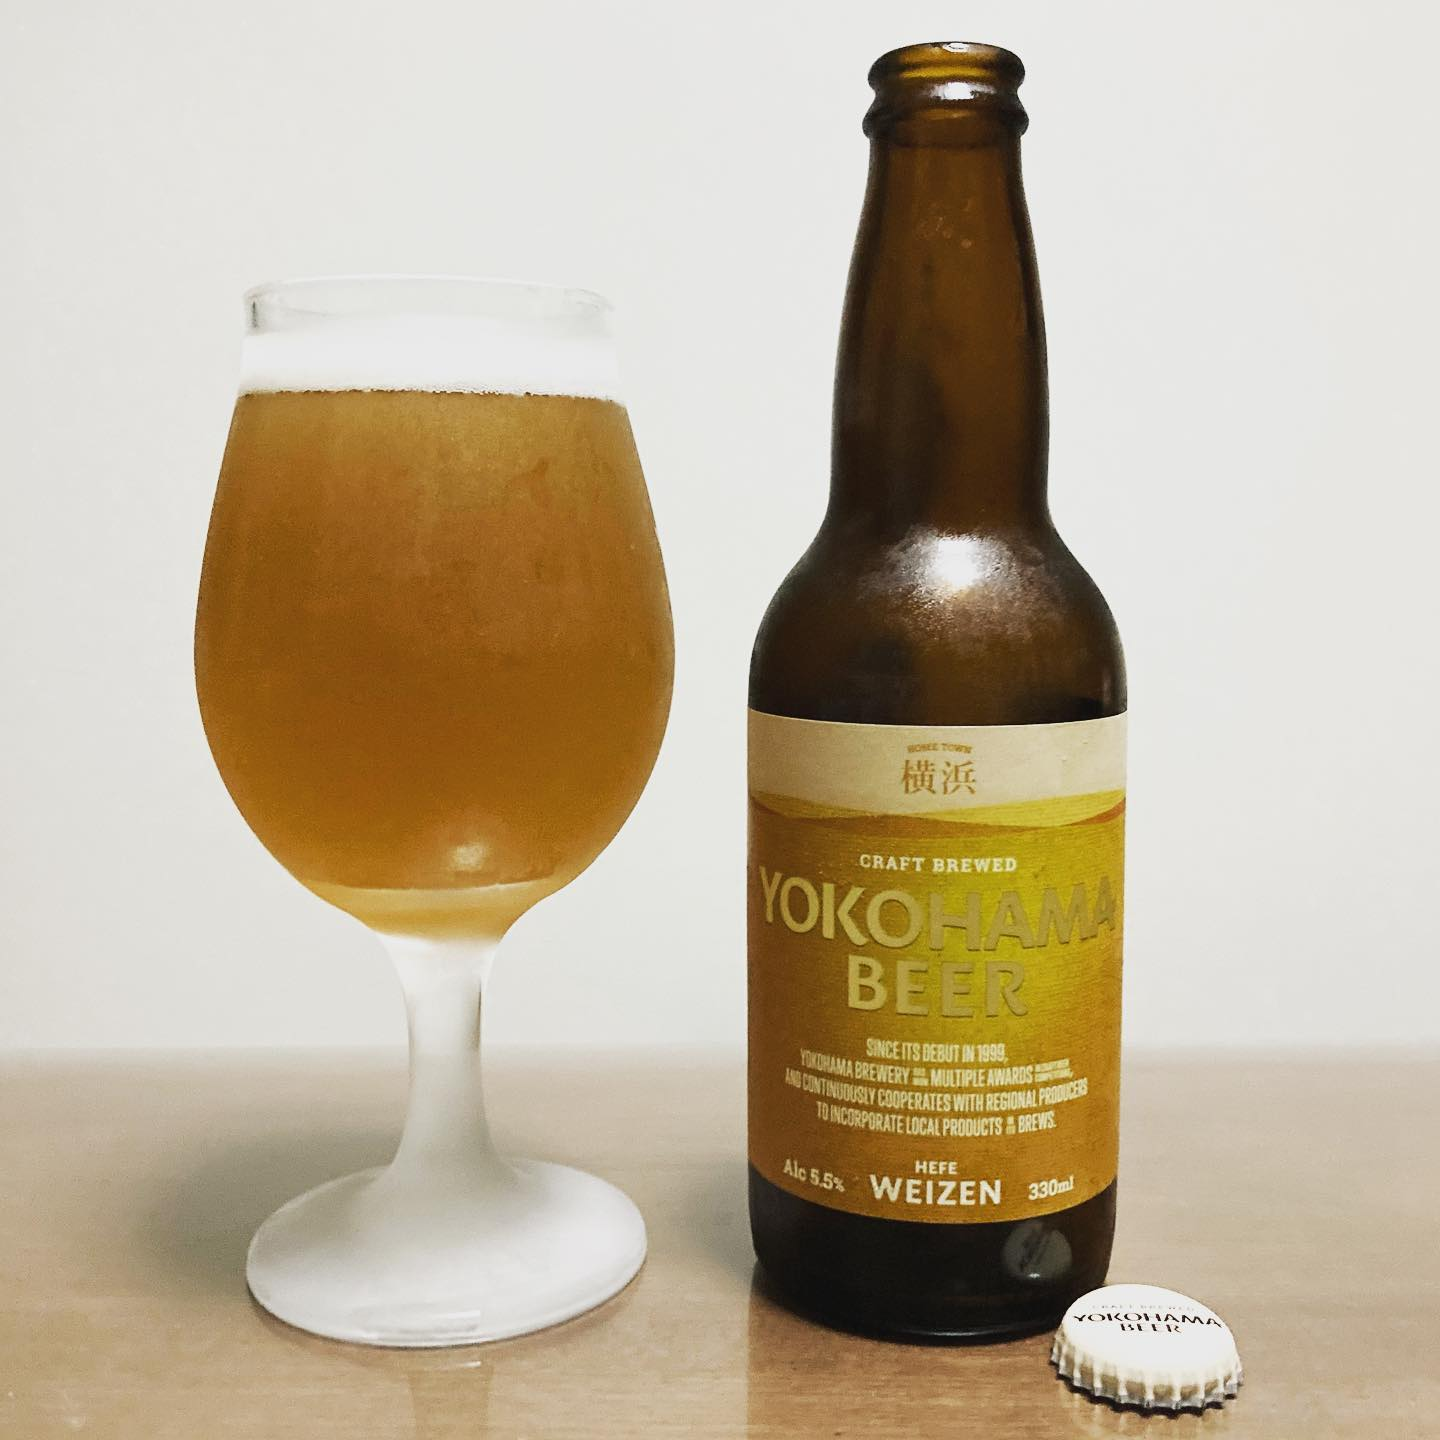alcohol: (187, 264, 684, 1360), (736, 32, 1137, 1358)
